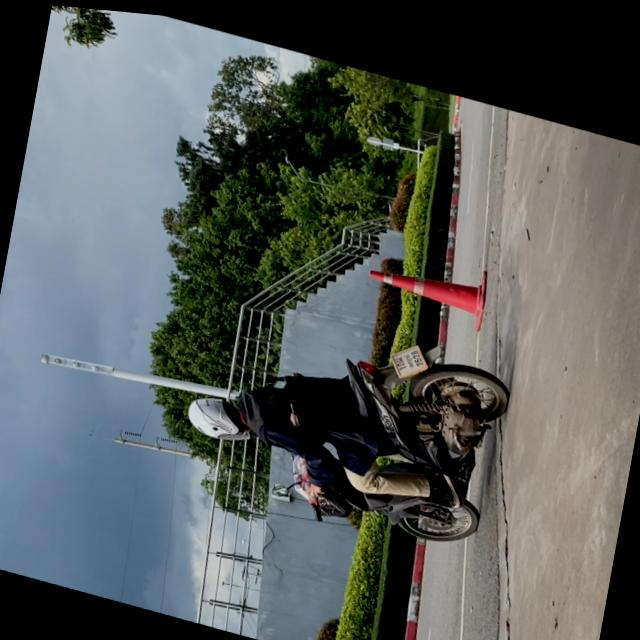no-seatbelt: (180, 383, 257, 443)
